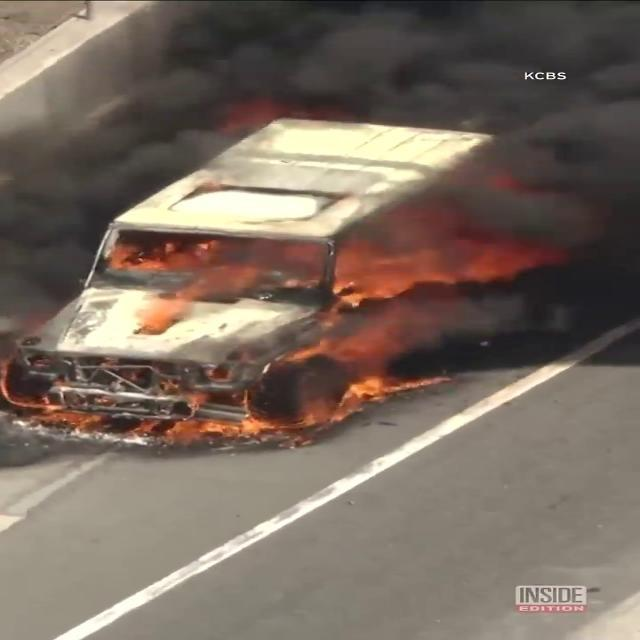Smoke: (337, 0, 639, 272)
